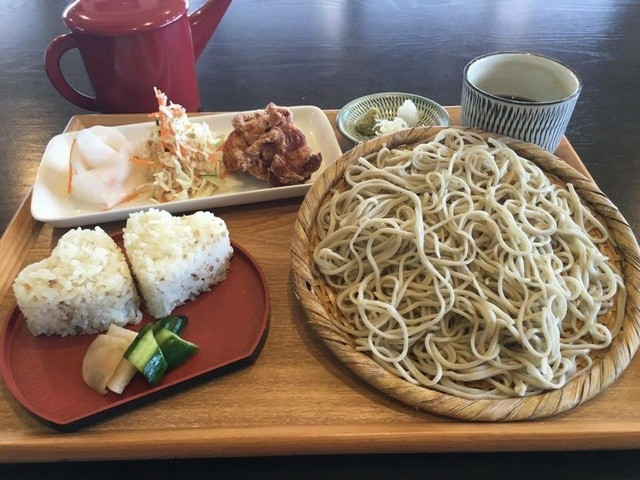Soba: (325, 130, 631, 400)
